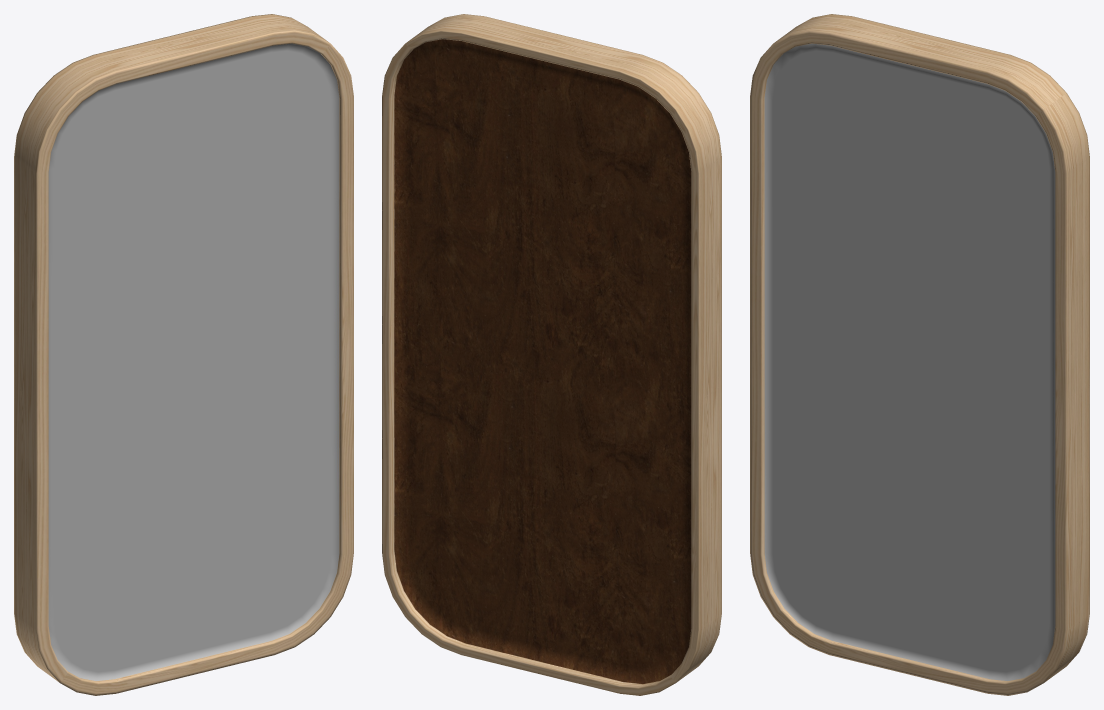
File: mirror.glb
The picture shows the model from 3 angles, left to right: view 1: azimuth 30°, elevation 25°; view 2: azimuth 150°, elevation 25°; view 3: azimuth 330°, elevation 25°; orthographic projection.
Visible parts, largest first — view 1: SM_Mirror; view 2: SM_Mirror; view 3: SM_Mirror.
Part boxes in pixels (x1,y1,x2,y2): SM_Mirror: (14, 14, 353, 695); SM_Mirror: (382, 14, 721, 695); SM_Mirror: (750, 14, 1089, 695).
Size of the model in its own units: 0.8 by 1.5 by 0.1.
Materials: 1 (1 with a texture image).
